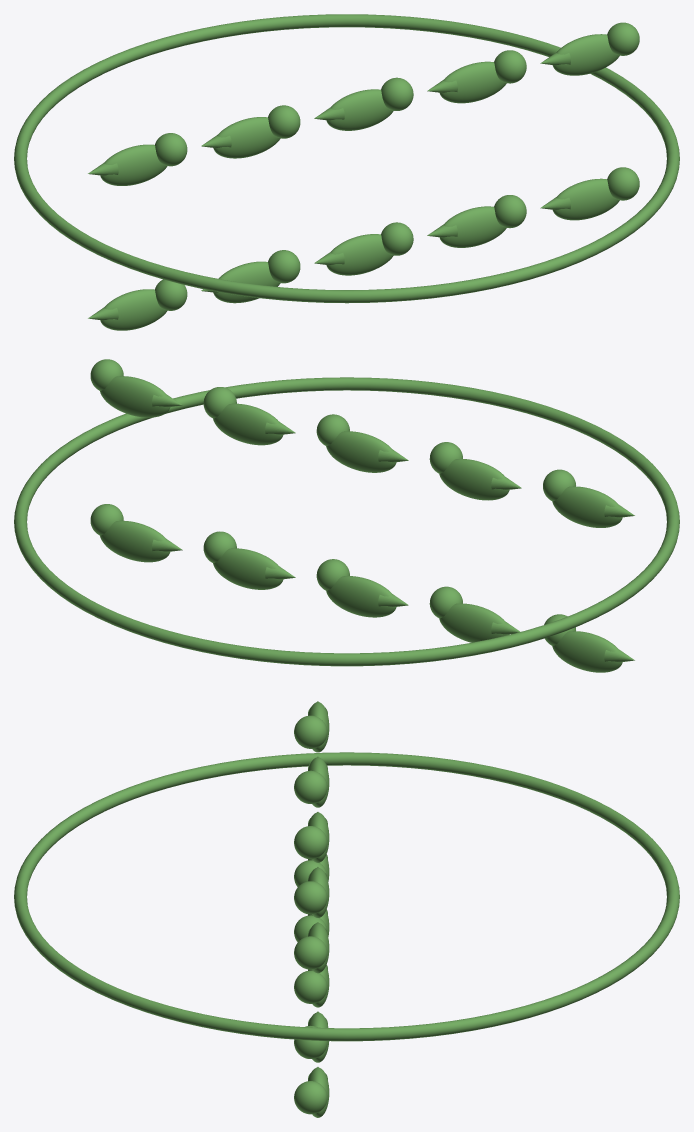
The model's file is bio-p1-population.glb.
3 views of the same model, one above another, from view 1: azimuth 30°, elevation 25°; view 2: azimuth 150°, elevation 25°; view 3: azimuth 270°, elevation 25° (orthographic).
Visible parts, largest first — view 1: same-species-population-boundary, same-species-7-body, same-species-8-body, same-species-0-body, same-species-3-body, same-species-4-body, same-species-5-body, same-species-2-body, same-species-9-body, same-species-6-body, same-species-1-body, same-species-2-head (+9 smaller); view 2: same-species-population-boundary, same-species-7-body, same-species-8-body, same-species-6-body, same-species-3-body, same-species-4-body, same-species-0-body, same-species-2-body, same-species-5-body, same-species-9-body, same-species-1-body, same-species-3-head (+8 smaller); view 3: same-species-population-boundary, same-species-5-head, same-species-9-head, same-species-8-head, same-species-4-head, same-species-6-head, same-species-7-head, same-species-2-head.
Part boxes in pixels (bbox=[...]): same-species-population-boundary: bbox=[14, 14, 679, 303]; same-species-7-body: bbox=[326, 89, 393, 130]; same-species-8-body: bbox=[439, 61, 506, 103]; same-species-0-body: bbox=[100, 289, 167, 330]; same-species-3-body: bbox=[439, 206, 506, 247]; same-species-4-body: bbox=[552, 178, 619, 220]; same-species-5-body: bbox=[100, 144, 167, 185]; same-species-2-body: bbox=[326, 234, 393, 275]; same-species-9-body: bbox=[552, 34, 619, 75]; same-species-6-body: bbox=[213, 117, 280, 158]; same-species-1-body: bbox=[213, 261, 280, 303]; same-species-2-head: bbox=[381, 222, 413, 255]; same-species-population-boundary: bbox=[14, 377, 679, 666]; same-species-7-body: bbox=[326, 431, 396, 472]; same-species-8-body: bbox=[213, 403, 283, 445]; same-species-6-body: bbox=[439, 459, 509, 500]; same-species-3-body: bbox=[213, 548, 283, 589]; same-species-4-body: bbox=[100, 520, 170, 562]; same-species-0-body: bbox=[552, 631, 622, 672]; same-species-2-body: bbox=[326, 576, 396, 617]; same-species-5-body: bbox=[552, 486, 622, 527]; same-species-9-body: bbox=[100, 376, 170, 417]; same-species-1-body: bbox=[439, 603, 509, 642]; same-species-3-head: bbox=[203, 531, 236, 563]; same-species-population-boundary: bbox=[14, 752, 679, 1041]; same-species-5-head: bbox=[294, 715, 327, 748]; same-species-9-head: bbox=[294, 936, 327, 969]; same-species-8-head: bbox=[294, 881, 327, 914]; same-species-4-head: bbox=[294, 1081, 327, 1114]; same-species-6-head: bbox=[294, 770, 327, 803]; same-species-7-head: bbox=[294, 826, 327, 859]; same-species-2-head: bbox=[294, 970, 327, 1003].
Size of what is drawn, in the model's own units: 1.84 by 0.5745 by 1.84.
